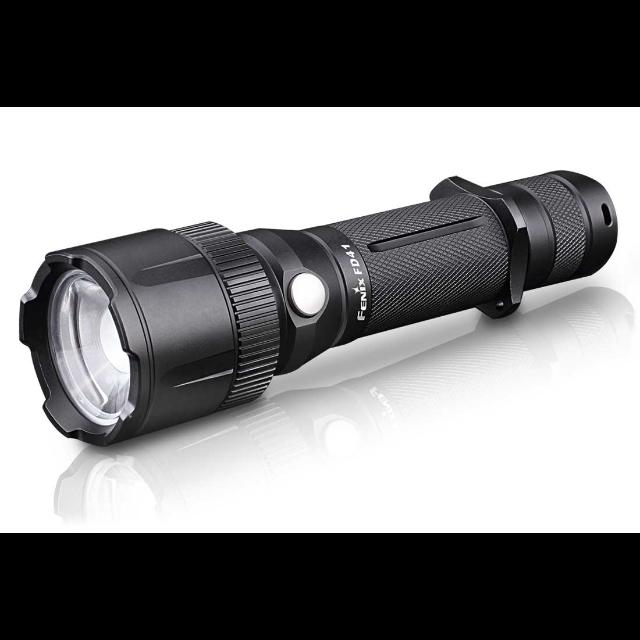Flashlight: (14, 161, 622, 455)
